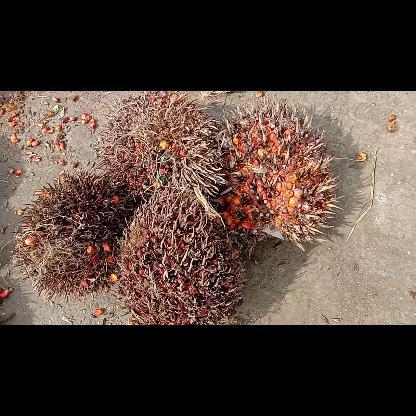Terlalu masak: (223, 96, 345, 250), (116, 186, 244, 324), (13, 166, 133, 302), (95, 91, 225, 216)
